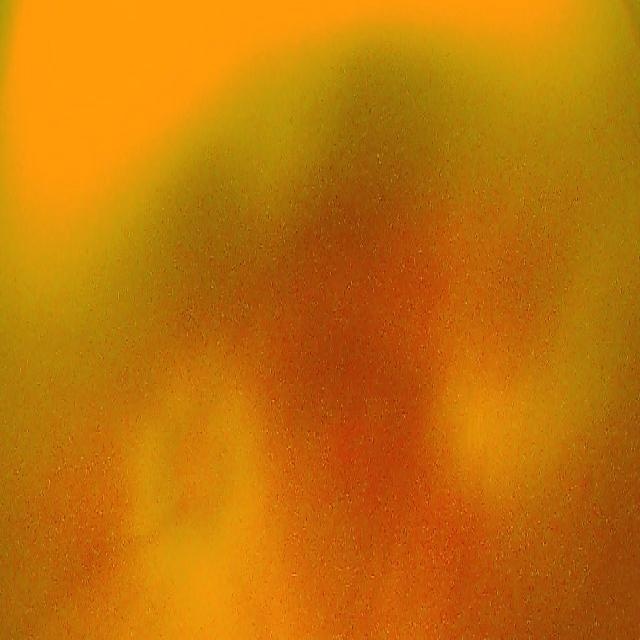optic-nerve: (138, 358, 256, 550)
